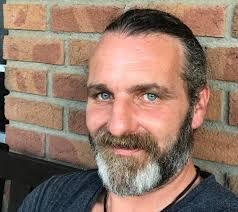no-mask: (80, 22, 211, 194)
